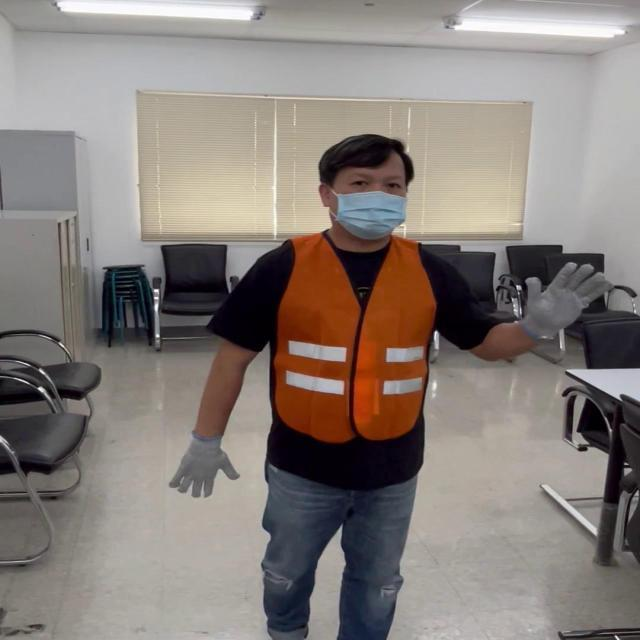gloved_hand: (520, 254, 625, 343), (169, 425, 243, 504)
